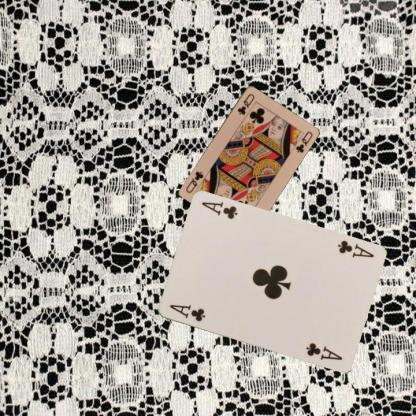Ac: (166, 302, 206, 323), (335, 238, 375, 259)
Qc: (235, 91, 256, 116)
